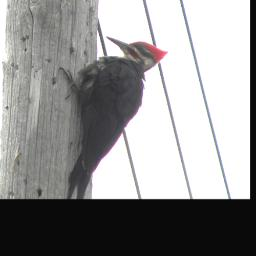Woodpecker: (57, 33, 171, 198)
